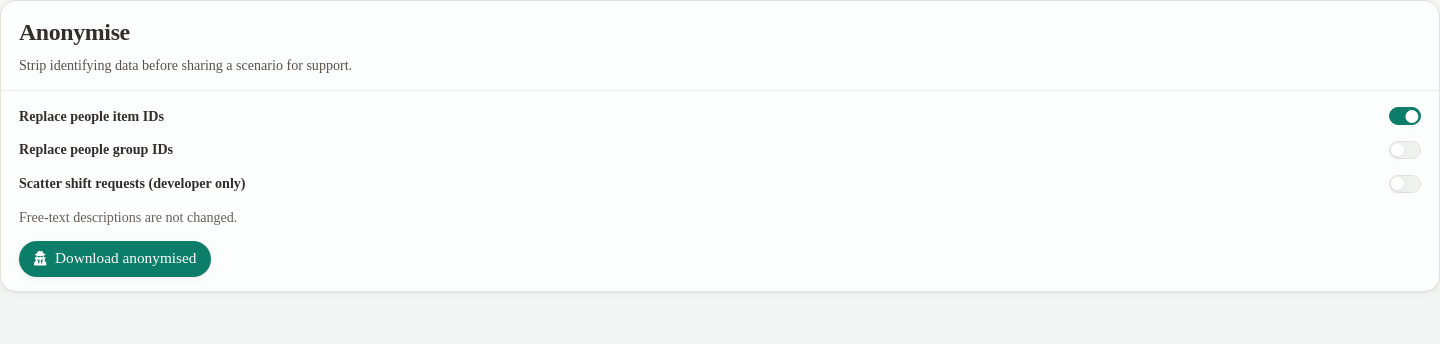
it: AnonymiseCard — scatter fallback warning (FR-SL-38 / V20 / AC-SL-24) › shows the fallback warning once Scatter is toggled on
Step 1. Click the switch with test id "anonymise-toggle-scatter" → [1405, 184], box [1389,175,1421,193]
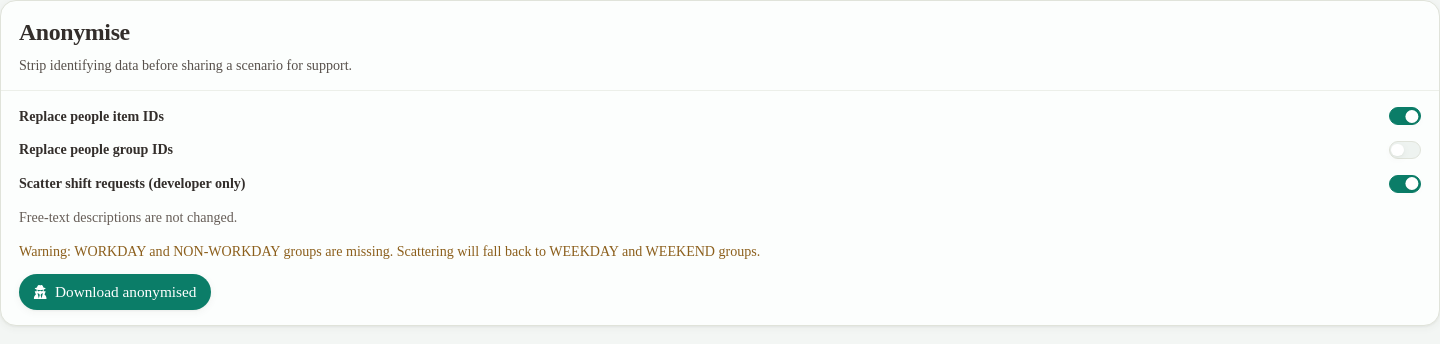
Now the text with test id "anonymise-scatter-fallback-warning" shows "Warning: WORKDAY and NON-WORKDAY groups are missing. Scattering will fall back to WEEKDAY and WEEKEND groups.", box [19,242,760,258]
